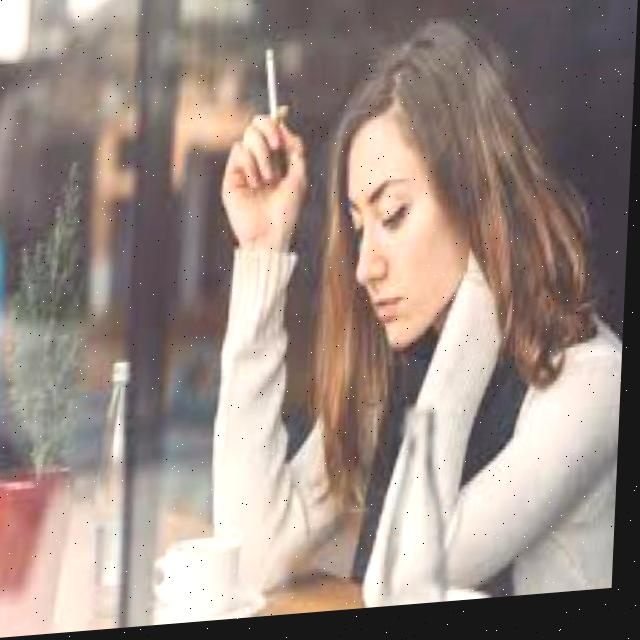cigarette: (263, 50, 282, 126)
